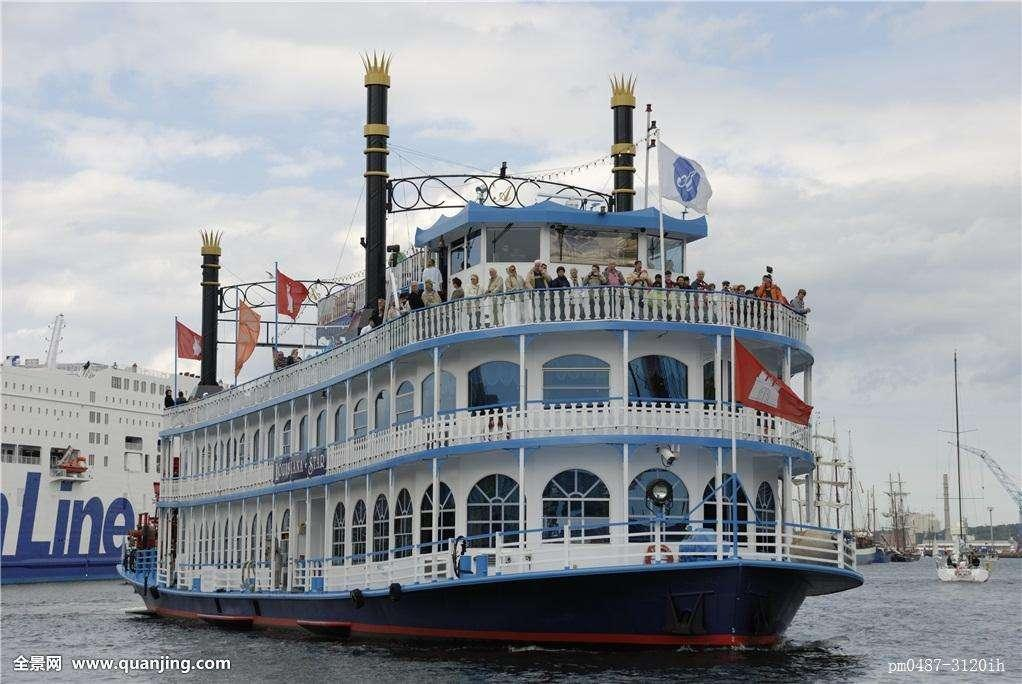youlun: (111, 48, 865, 666)
